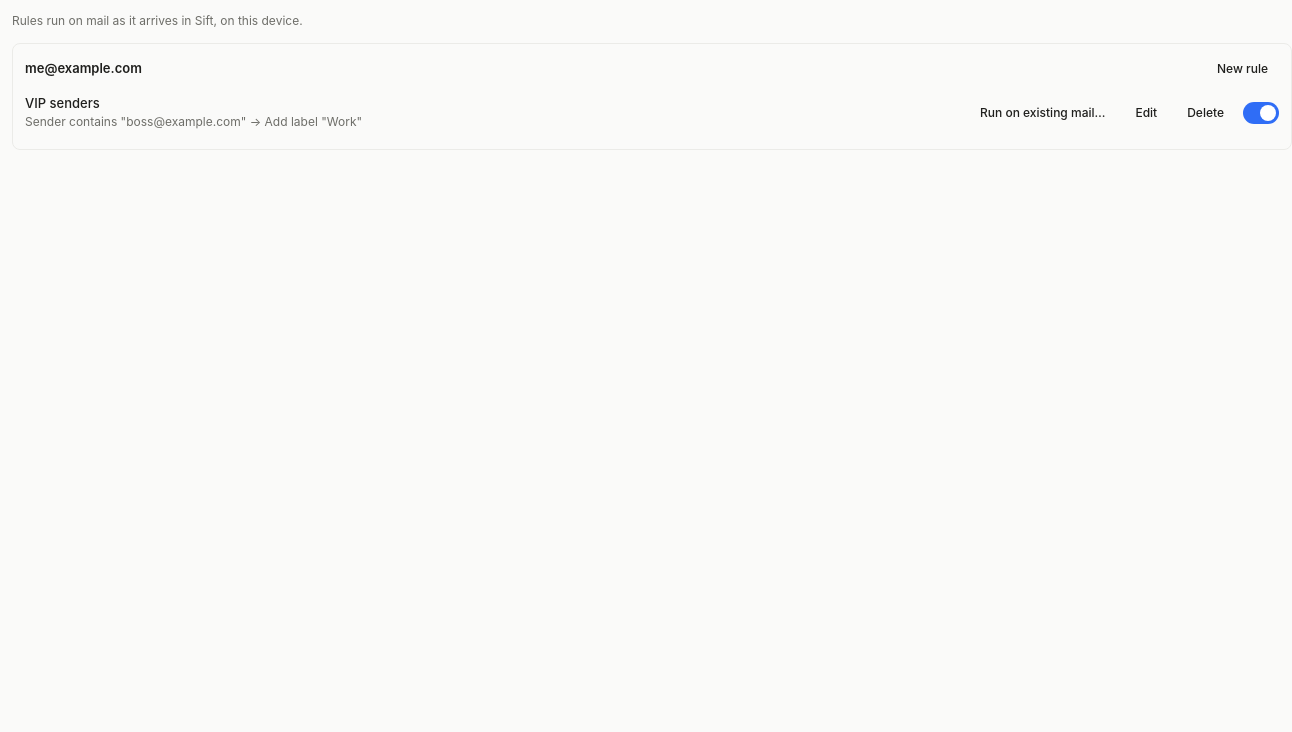
Test: Settings -> Rules (P8.3) › keeps Save disabled until the rule has a name, a matched value and an action
Check: the text "VIP senders" is shown, box [25, 95, 100, 111]
Step 1. Click the button "New rule" → coordinates (1242, 68), box [1206, 54, 1279, 82]
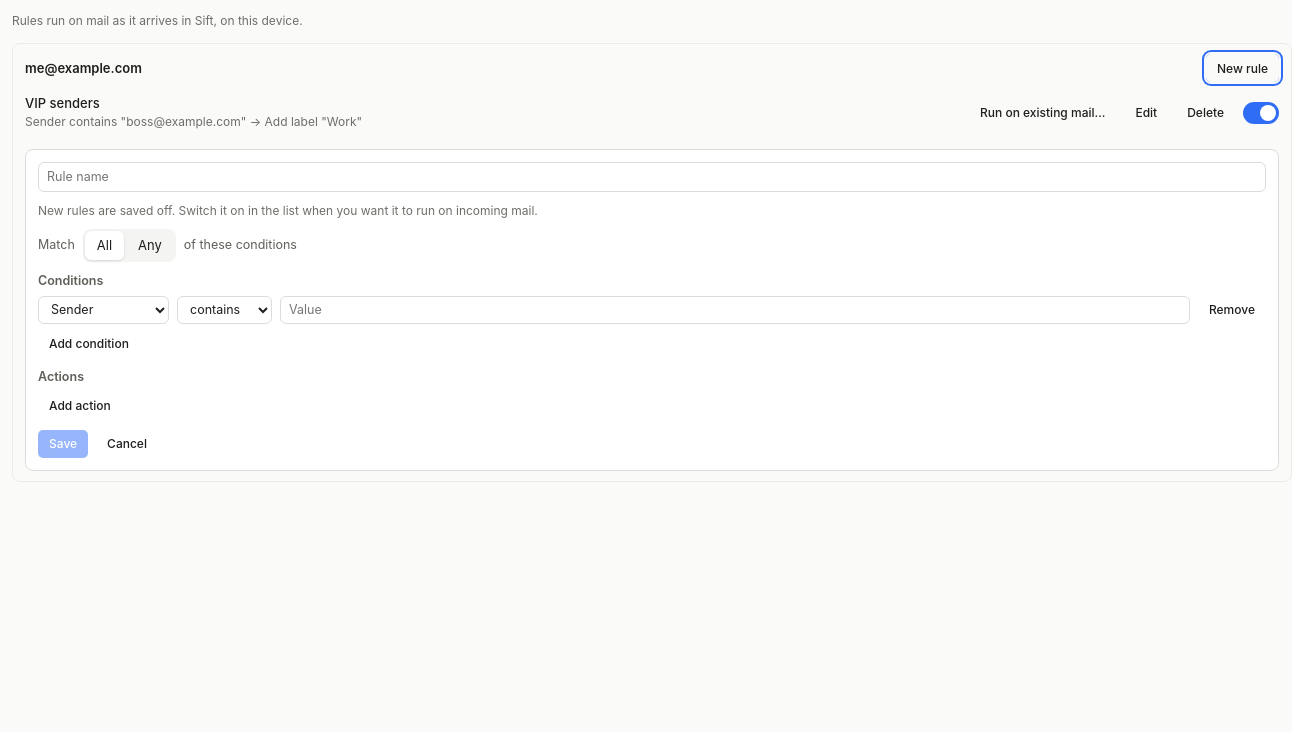
Check: the button "Save" is disabled, box [38, 430, 88, 458]
Step 2. Type "Notify me" into the field labelled "Rule name" → coordinates (652, 177), box [38, 162, 1266, 192]
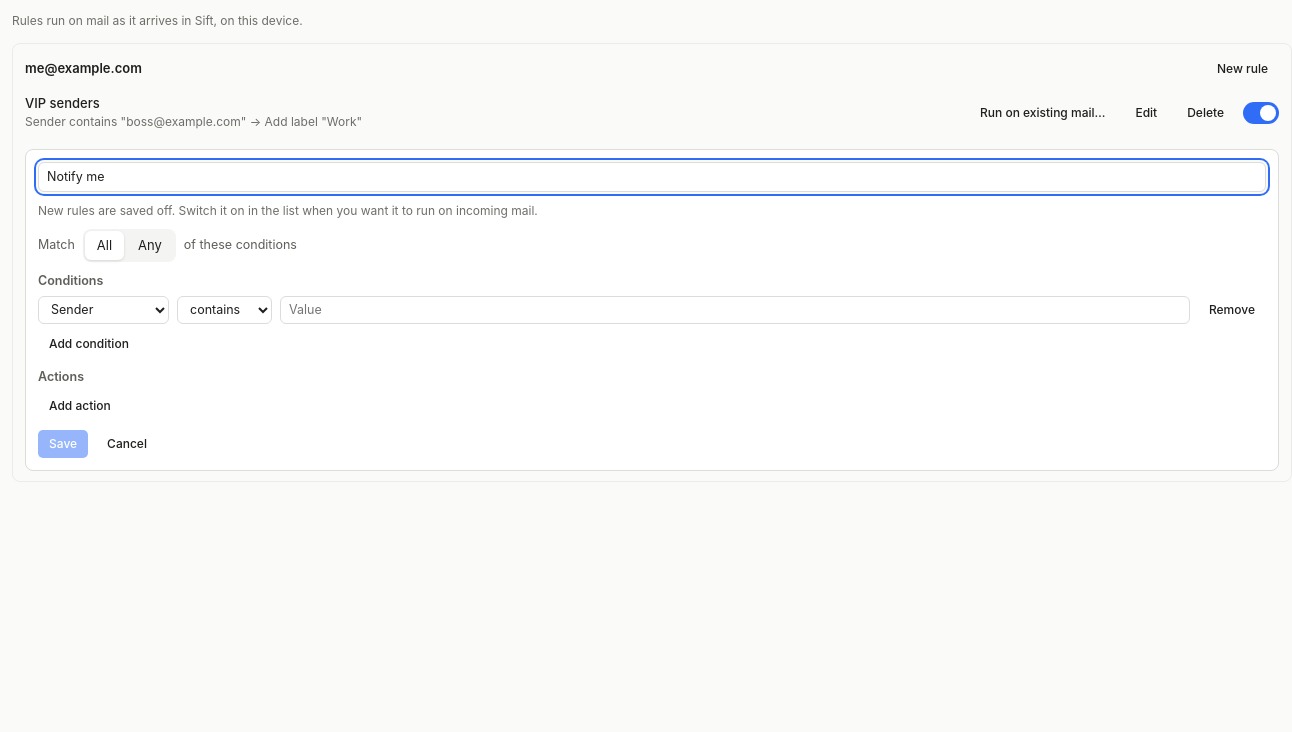
Step 3. Type "boss@example.com" into the field named "Condition value" → coordinates (735, 310), box [280, 296, 1190, 324]
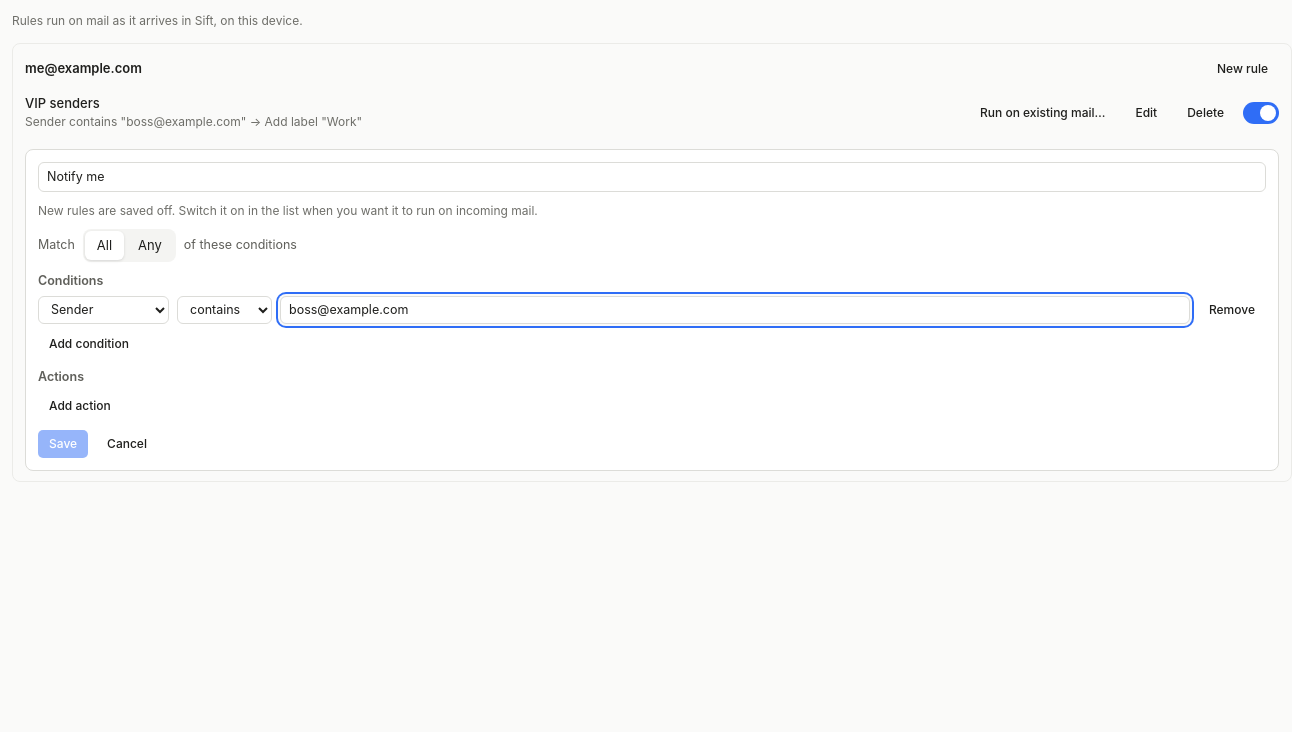
Check: the button "Save" is disabled, box [38, 430, 88, 458]
Step 4. Click the button "Add action" → coordinates (80, 406), box [38, 392, 122, 420]
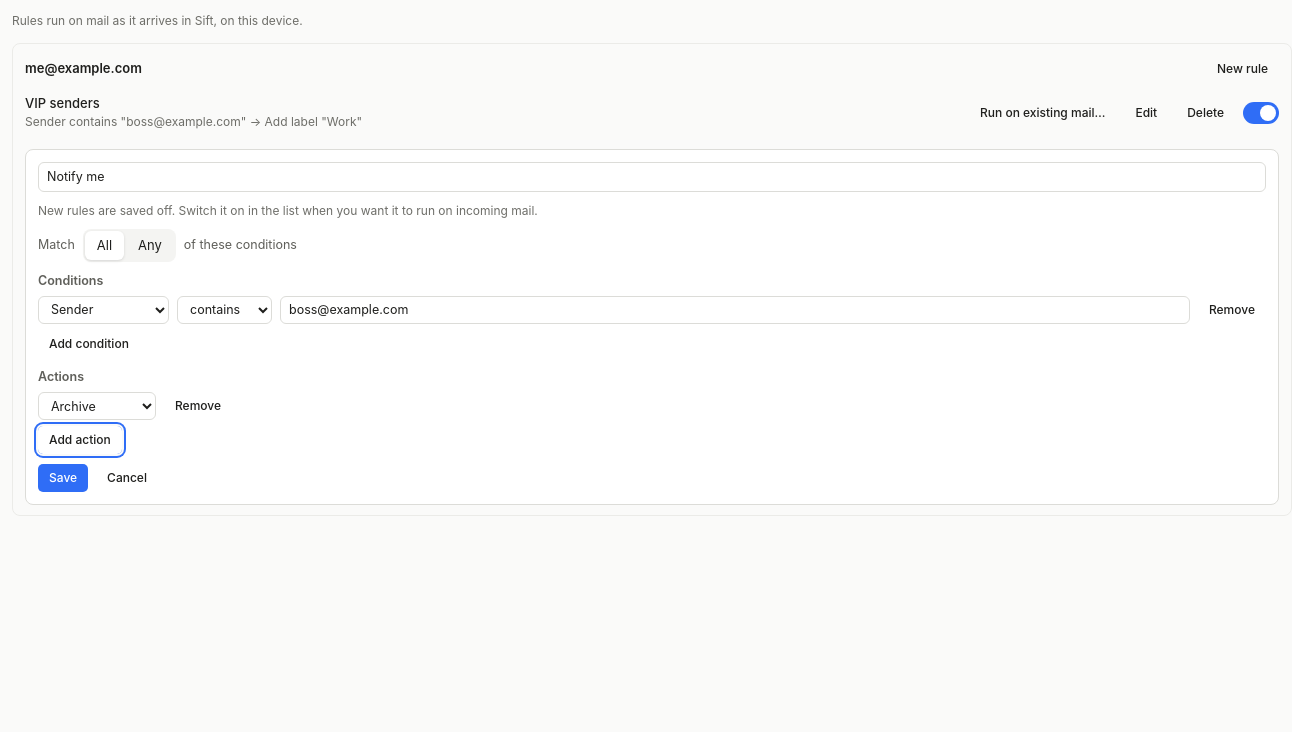
Check: the button "Save" is enabled, box [38, 464, 88, 492]
Step 5. Clear the field named "Rule name" → coordinates (652, 177), box [38, 162, 1266, 192]
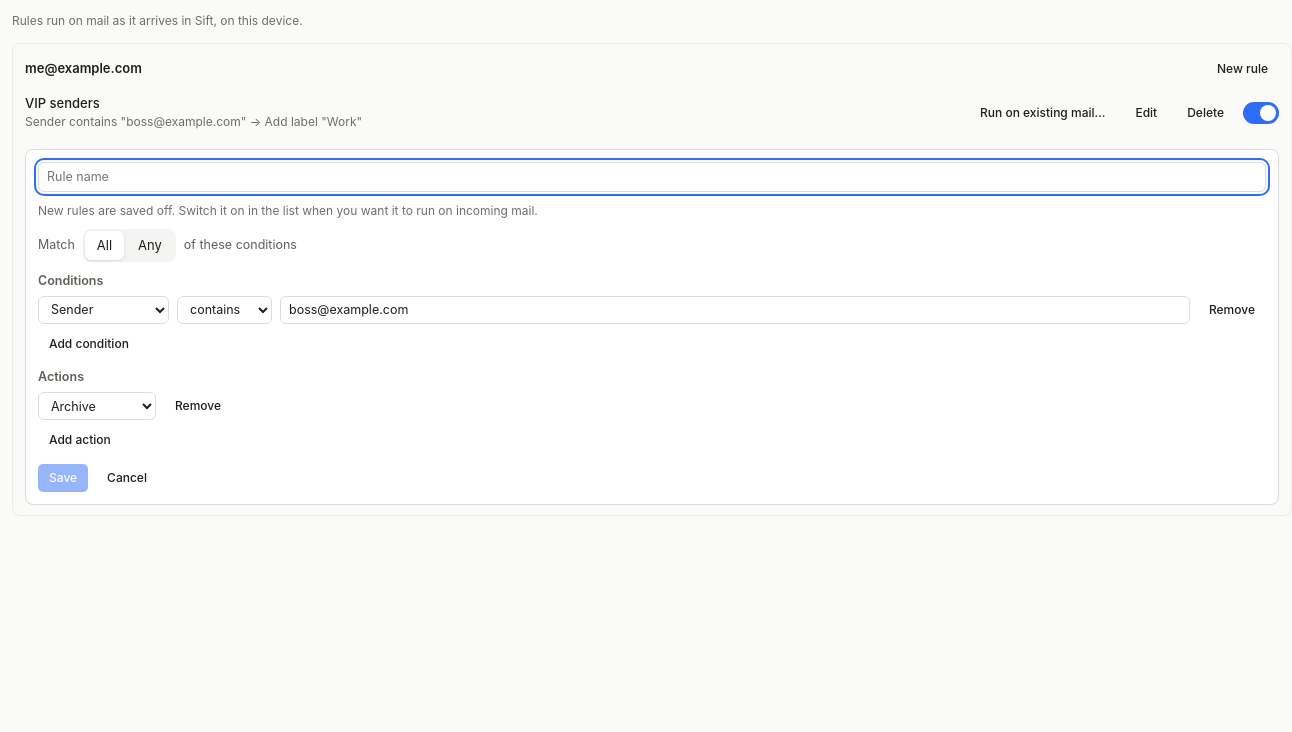
Check: the button "Save" is disabled, box [38, 464, 88, 492]
